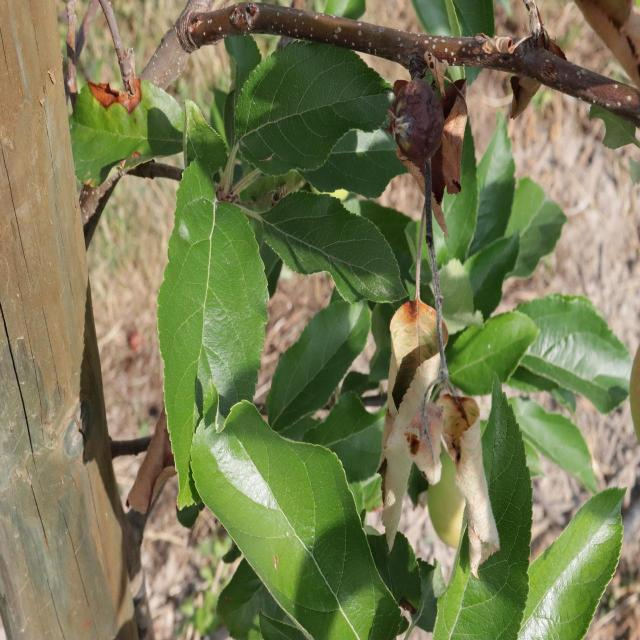-FireBlight-: (366, 71, 522, 571)
